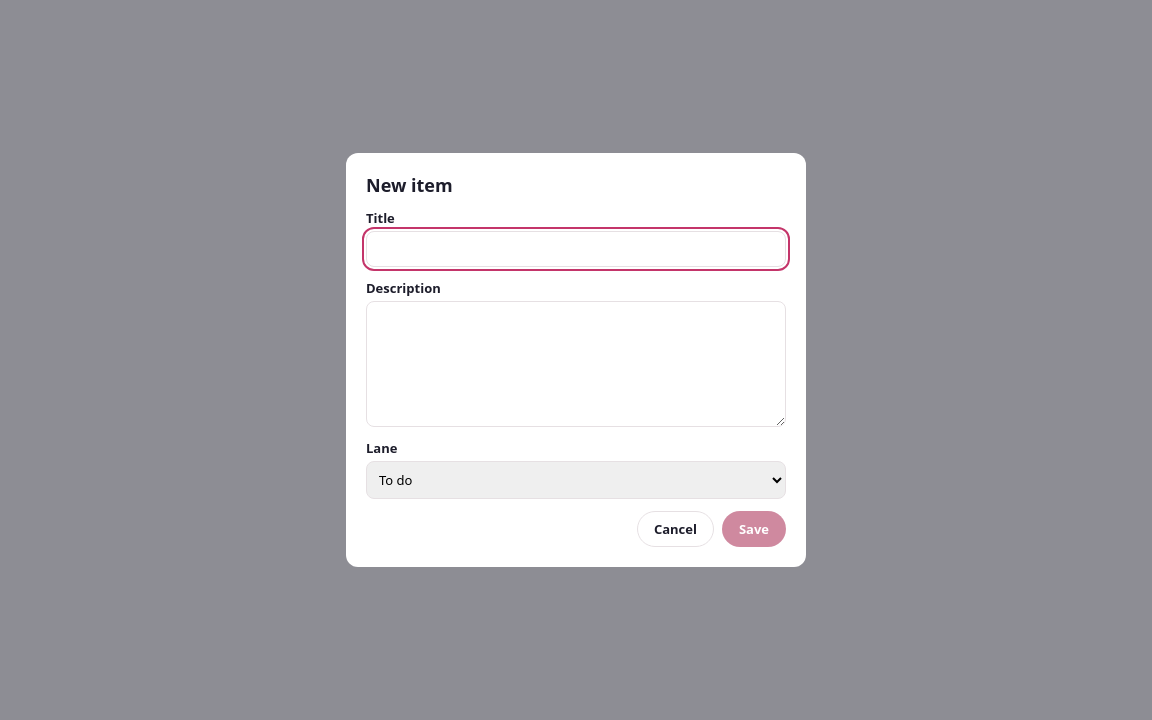
Test: ItemDialog › shows a failure inline, stays open and keeps the input
The width and height of the screenshot is (1152, 720).
In the field labelled "Title": (576, 249) [366,231,786,267], type "Hi"
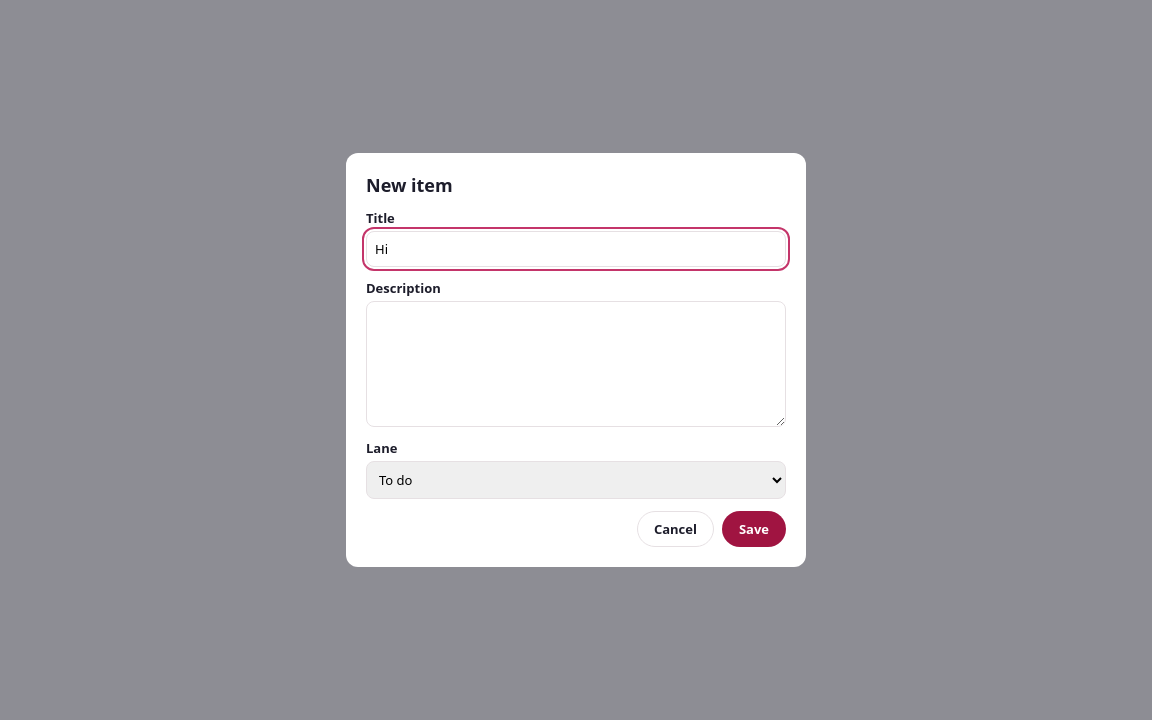
Click the button "Save": (754, 529) [722,511,786,547]
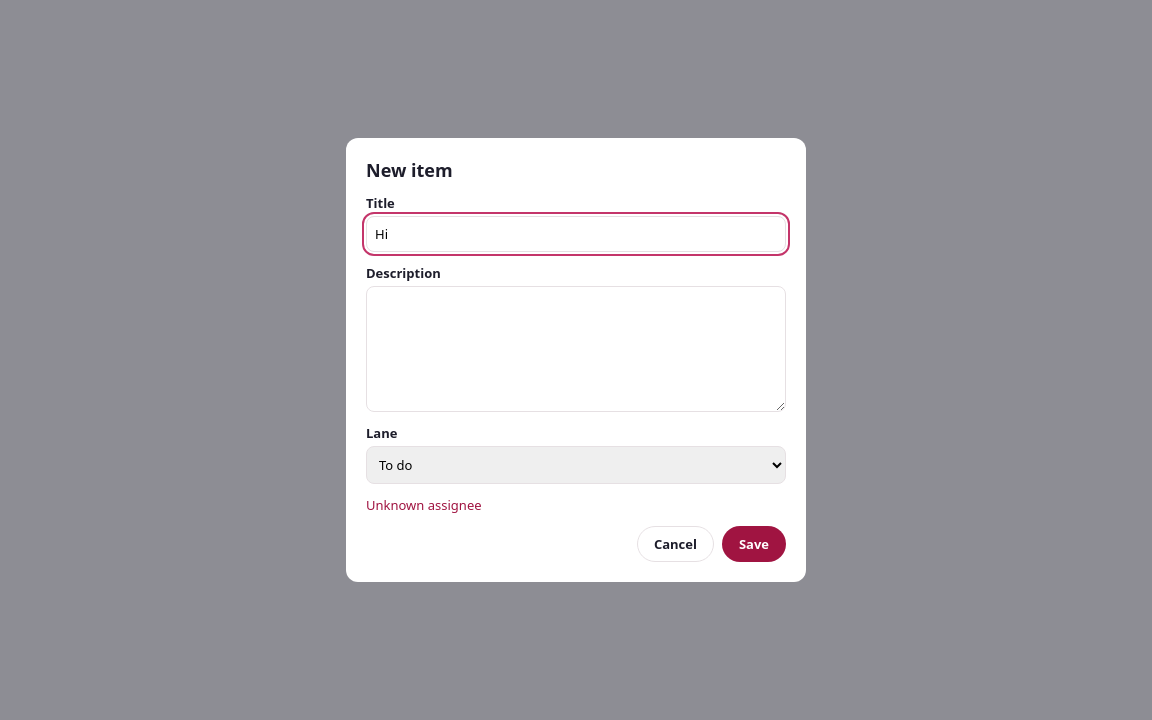
Result: the message reads "Unknown assignee" at [366,496,482,514]
